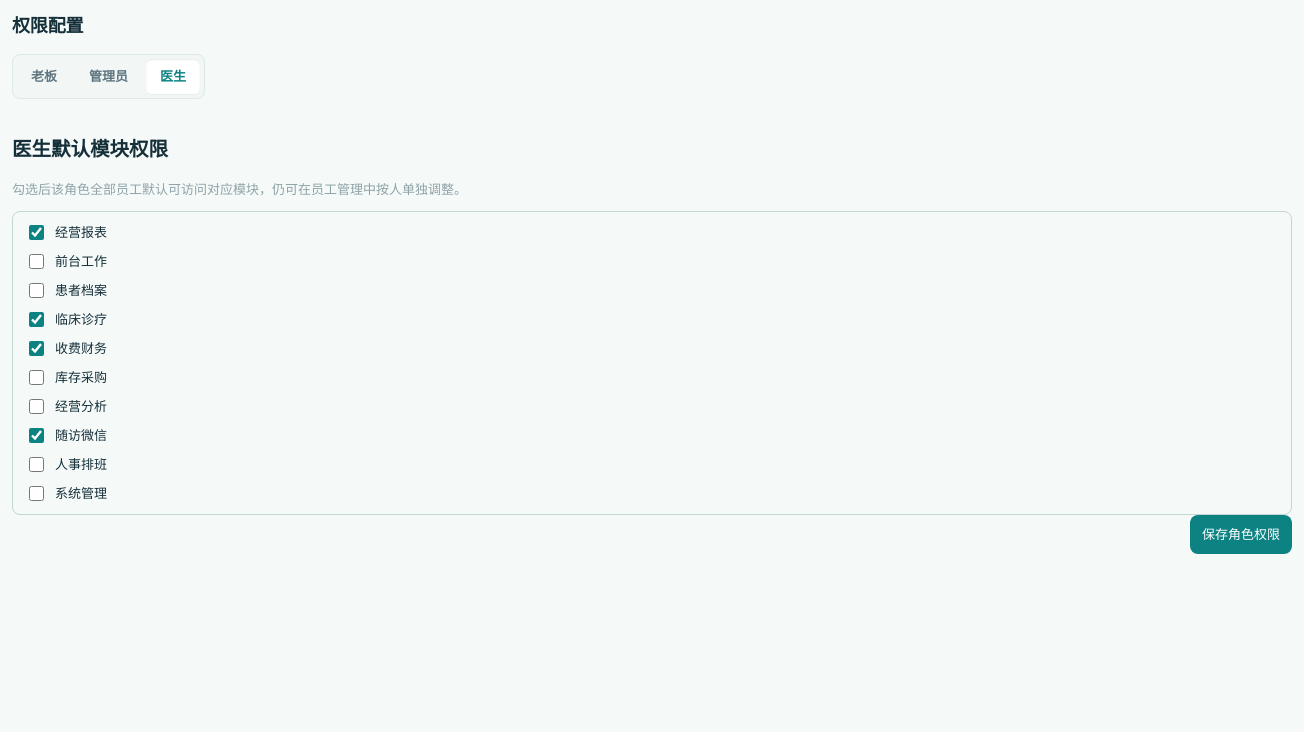
Test: PermissionsPage › reports save failures with the fallback message
Expected: the heading "医生默认模块权限" is shown, x1=12 y1=135 x2=168 y2=162
Click the button "保存角色权限" at (1241, 535), box x1=1190 y1=515 x2=1292 y2=554
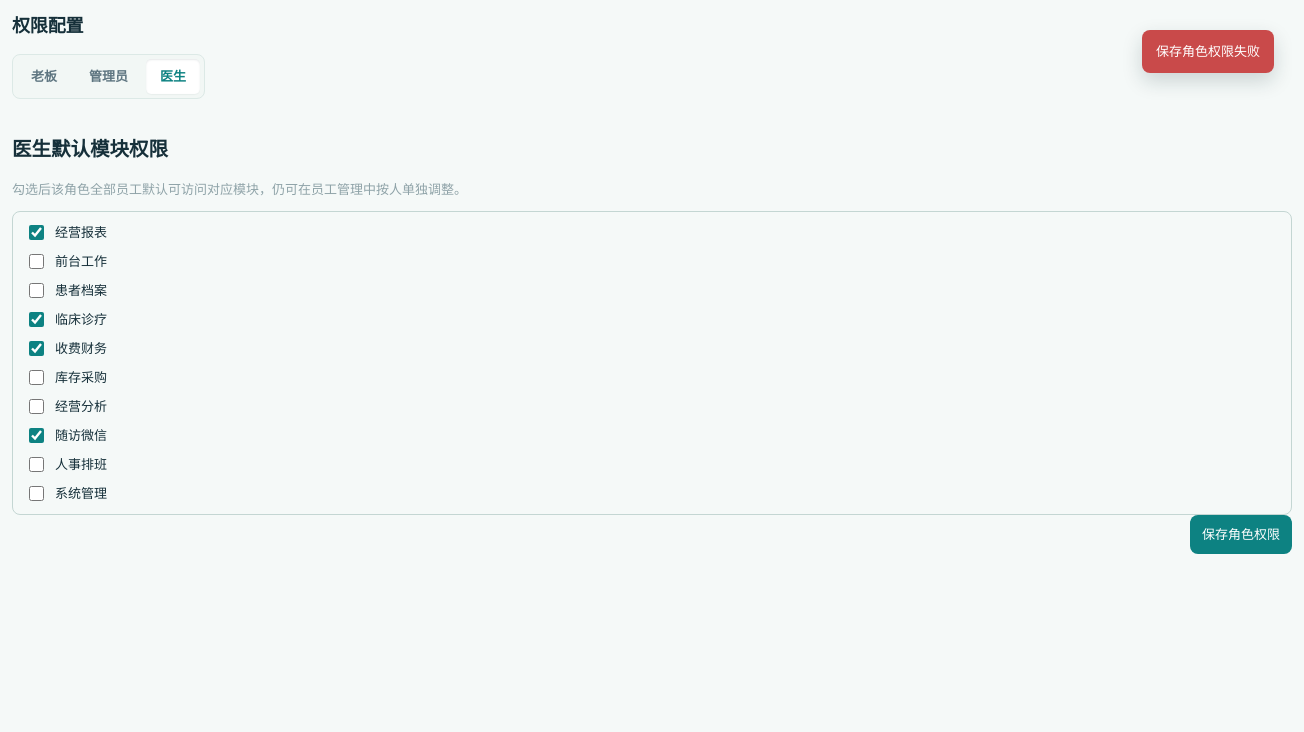
Now the text "保存角色权限失败" is shown, box x1=1142 y1=30 x2=1274 y2=73
